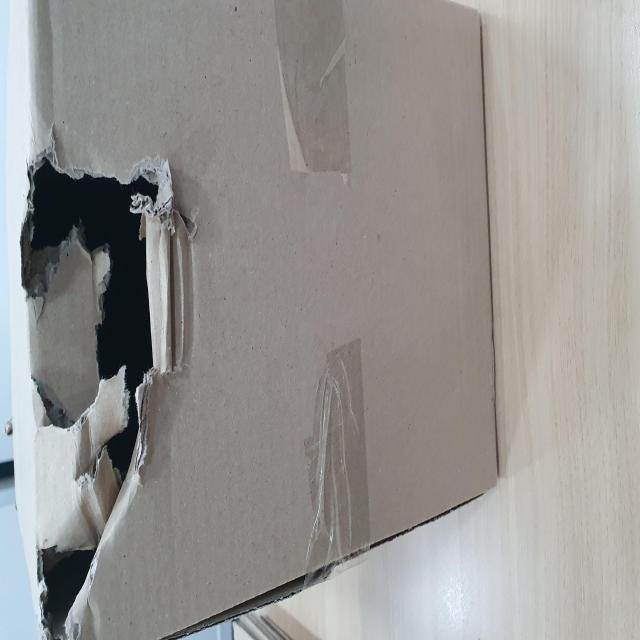damaged: (1, 35, 276, 370)
